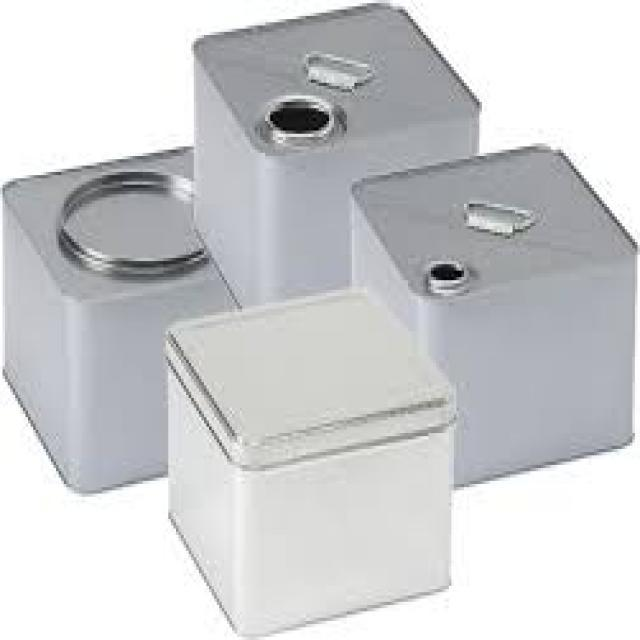recyclable: (167, 287, 459, 640), (349, 142, 638, 490), (190, 0, 480, 307), (0, 146, 241, 492)
